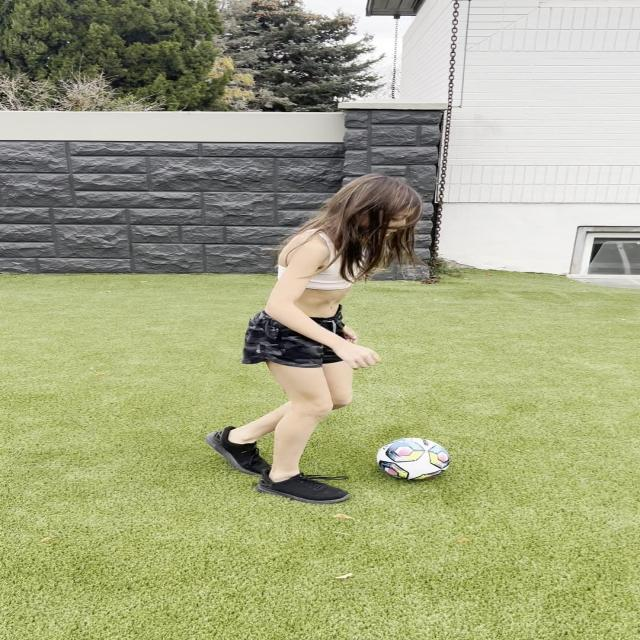Soccer Ball: (377, 438, 450, 480)
